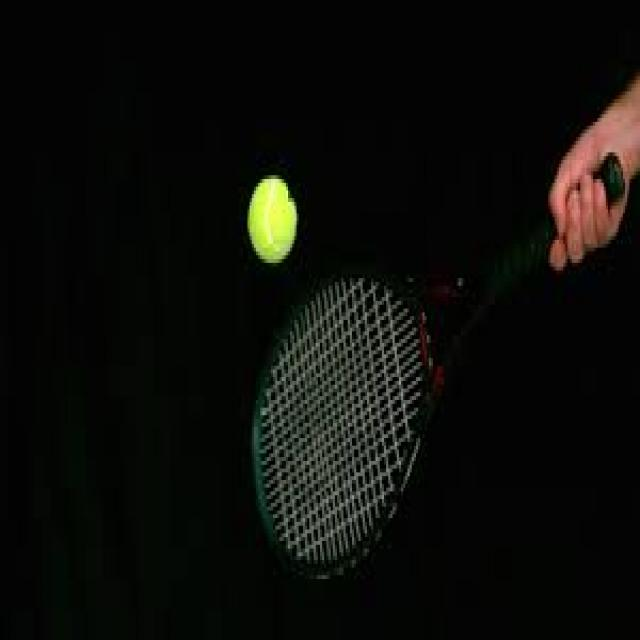Tennis-Ball: (248, 178, 297, 263)
